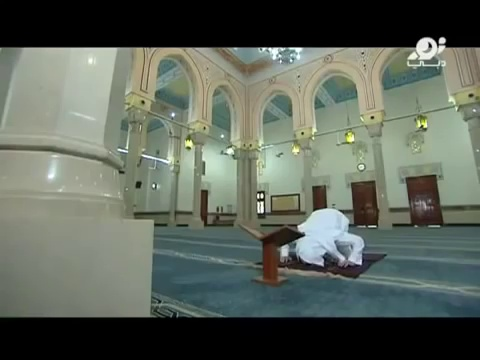sujud: (276, 206, 366, 269)
